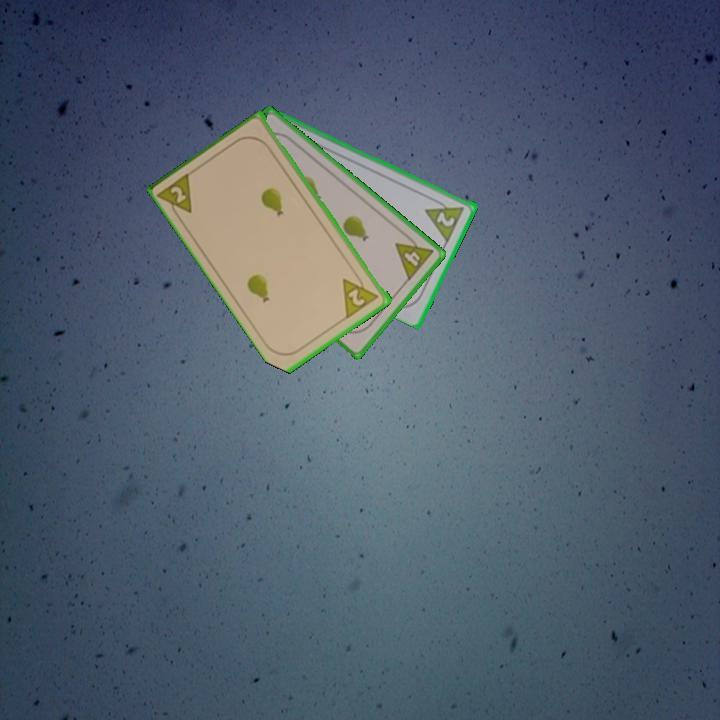2p: (155, 168, 196, 224), (339, 269, 383, 321), (433, 208, 458, 230)
4p: (391, 229, 437, 284)
